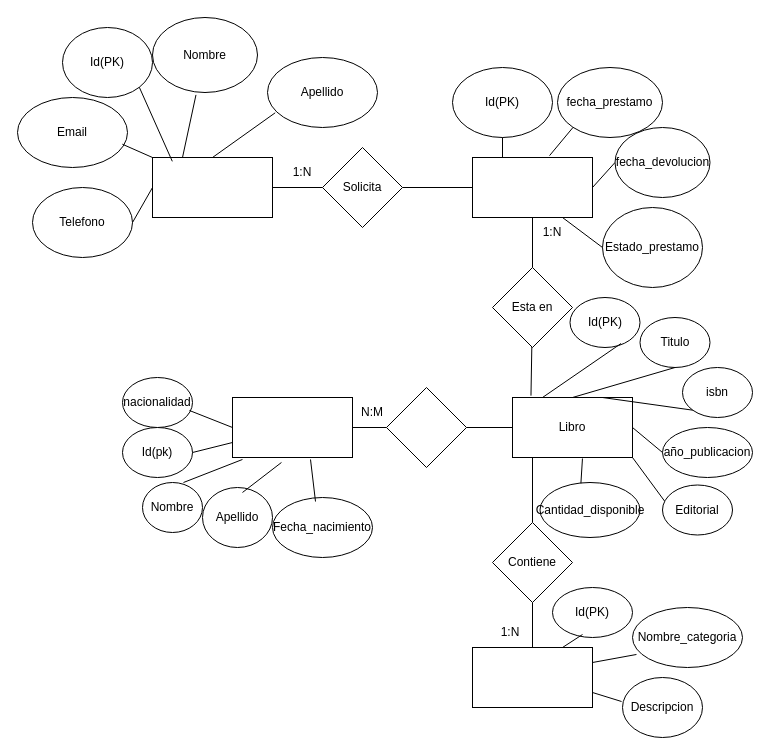
Image size: 770x755. Some labels were removed from this diagram. Here are the shapes that lost their labels. From the top down, the centre of each, then its label:
At (x=212, y=187): "Usuario".
At (x=532, y=187): "Prestamo".
At (x=292, y=427): "Autor".
At (x=426, y=427): "Tiene".
At (x=532, y=677): "Categoria".
